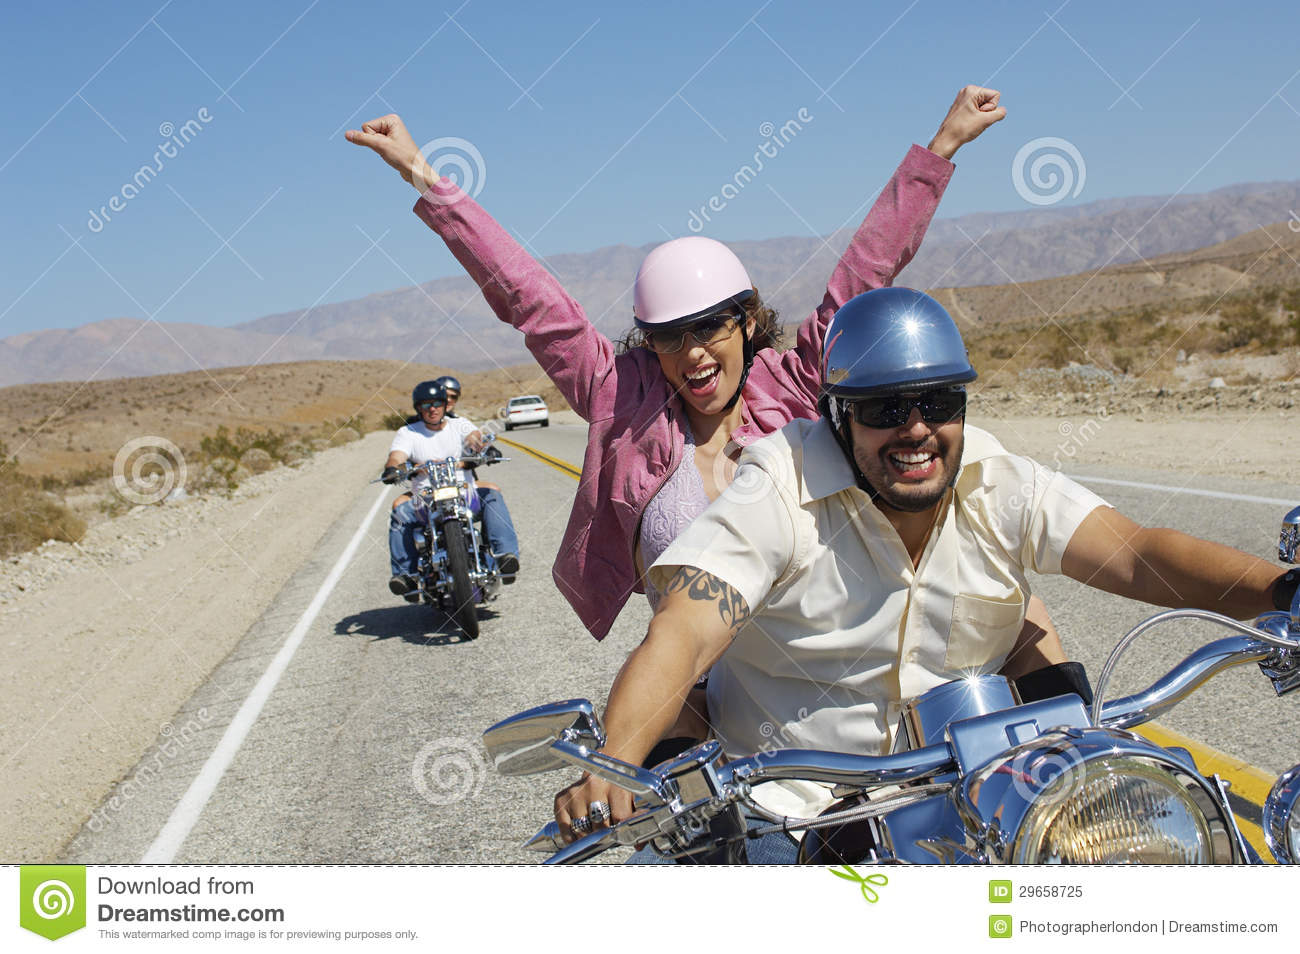helmet: (820, 299, 989, 402), (620, 215, 746, 328)
